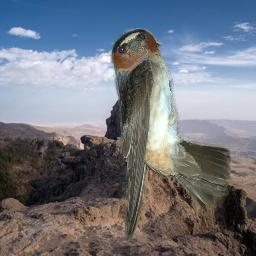Swallow: (110, 28, 231, 244)
